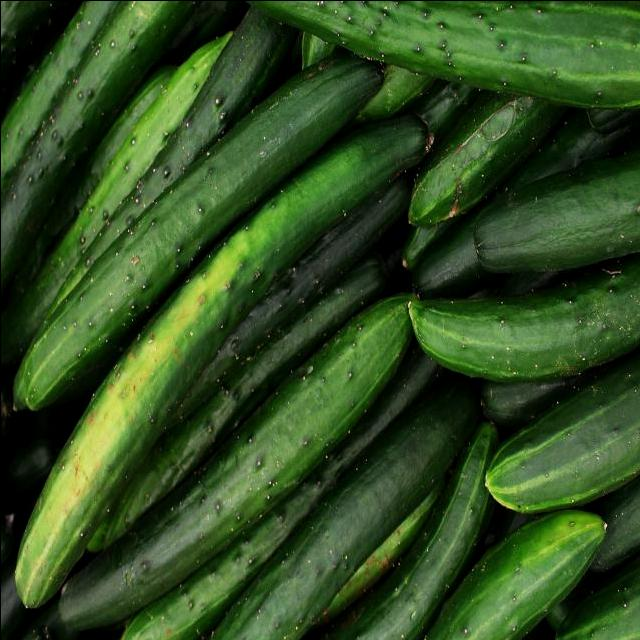cucumber: (15, 125, 424, 615), (13, 66, 382, 412), (58, 300, 407, 632), (215, 389, 462, 640), (1, 2, 186, 282), (249, 1, 640, 117), (318, 416, 503, 640), (407, 263, 640, 380), (487, 365, 640, 518), (425, 512, 605, 638), (408, 89, 556, 227), (473, 167, 640, 275)
